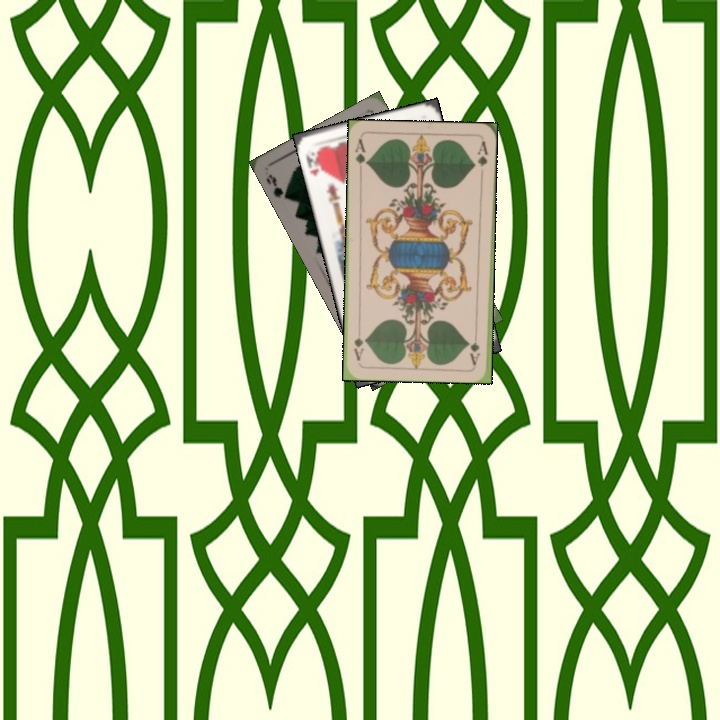G9: (262, 170, 294, 202)
GA: (351, 135, 371, 175), (467, 326, 483, 367)
HK: (302, 147, 326, 178)
